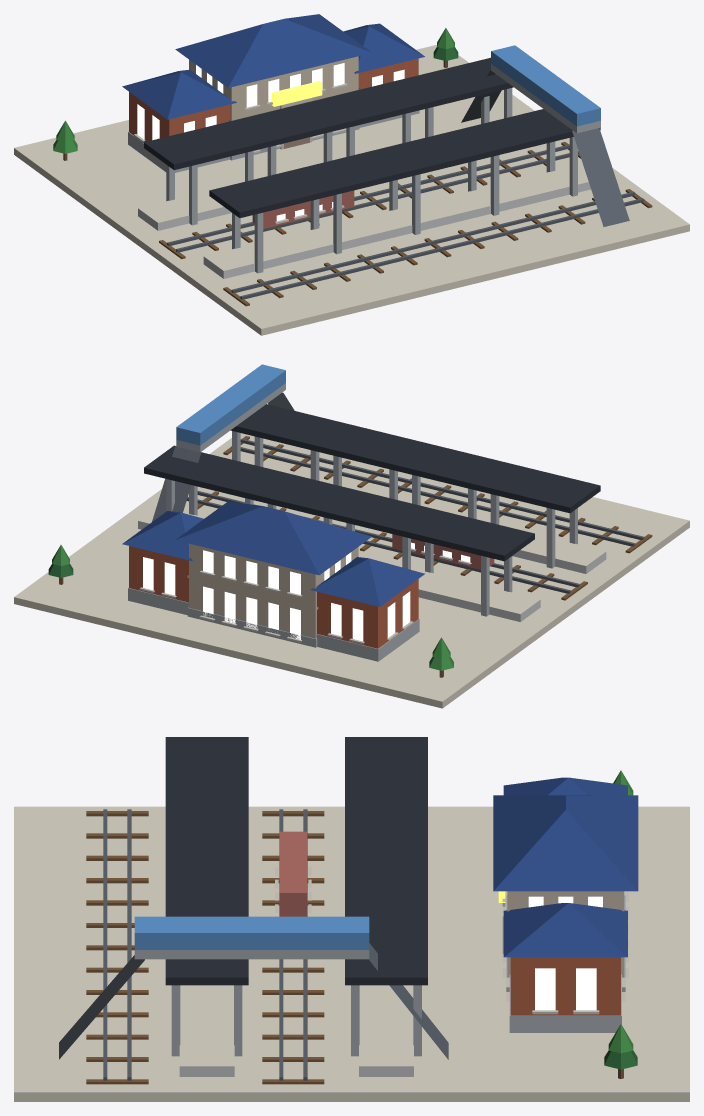
The picture shows the model from 3 angles, top to bottom: view 1: azimuth 30°, elevation 25°; view 2: azimuth 150°, elevation 25°; view 3: azimuth 270°, elevation 25°; orthographic projection. The views are drawn at different scales.
Visible parts, largest first — view 1: b32_x2; view 2: b32_x2; view 3: b32_x2.
Part boxes in pixels (left/top/right/bottom): b32_x2: left=14, top=14, right=689, bottom=335; b32_x2: left=14, top=364, right=689, bottom=708; b32_x2: left=14, top=737, right=689, bottom=1101.
Size of the model in its own units: 1.96 by 0.5 by 1.96.
